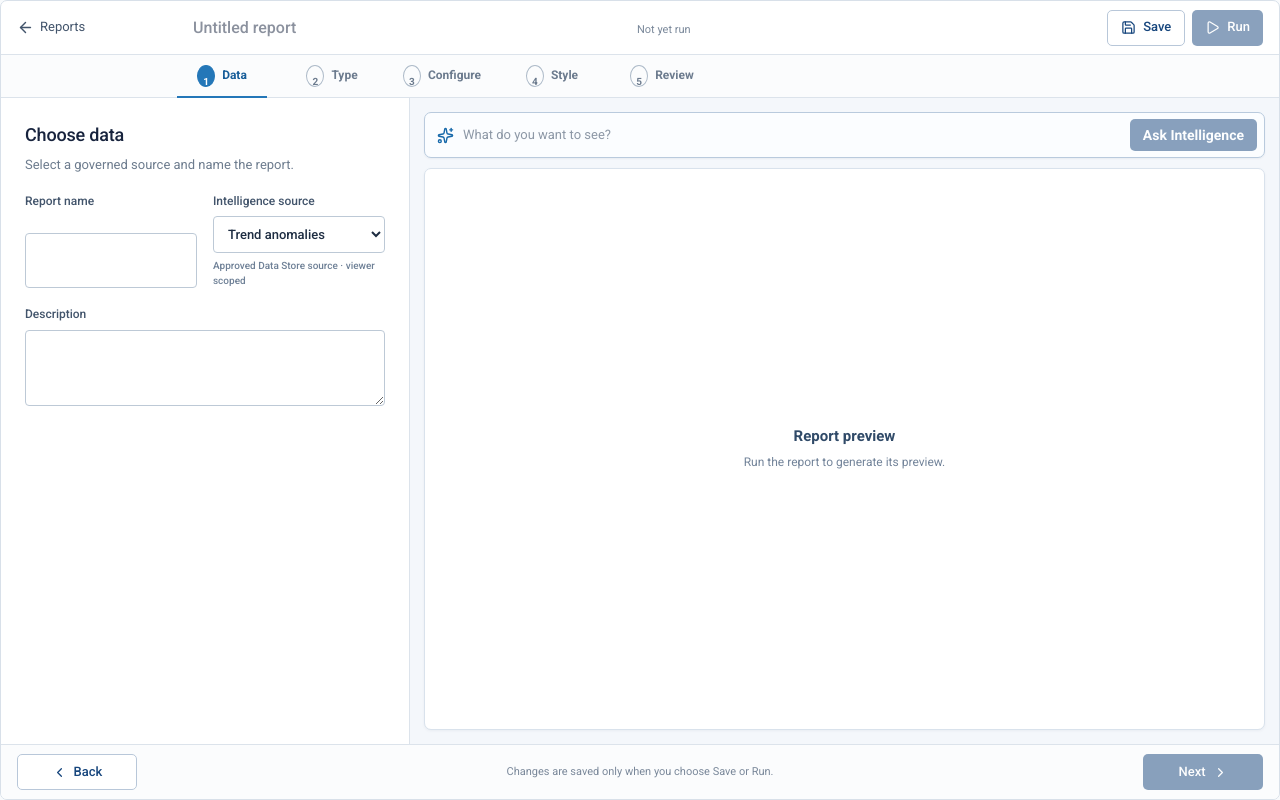
Test: shows governed Data Store sources and the complete chart catalogue
Expected: the text "Approved Data Store source · viewer scoped" is shown, [213,259,385,288]
Type "Chart discovery" into the field labelled "Report name" at point(111, 261), box [25,233,197,288]
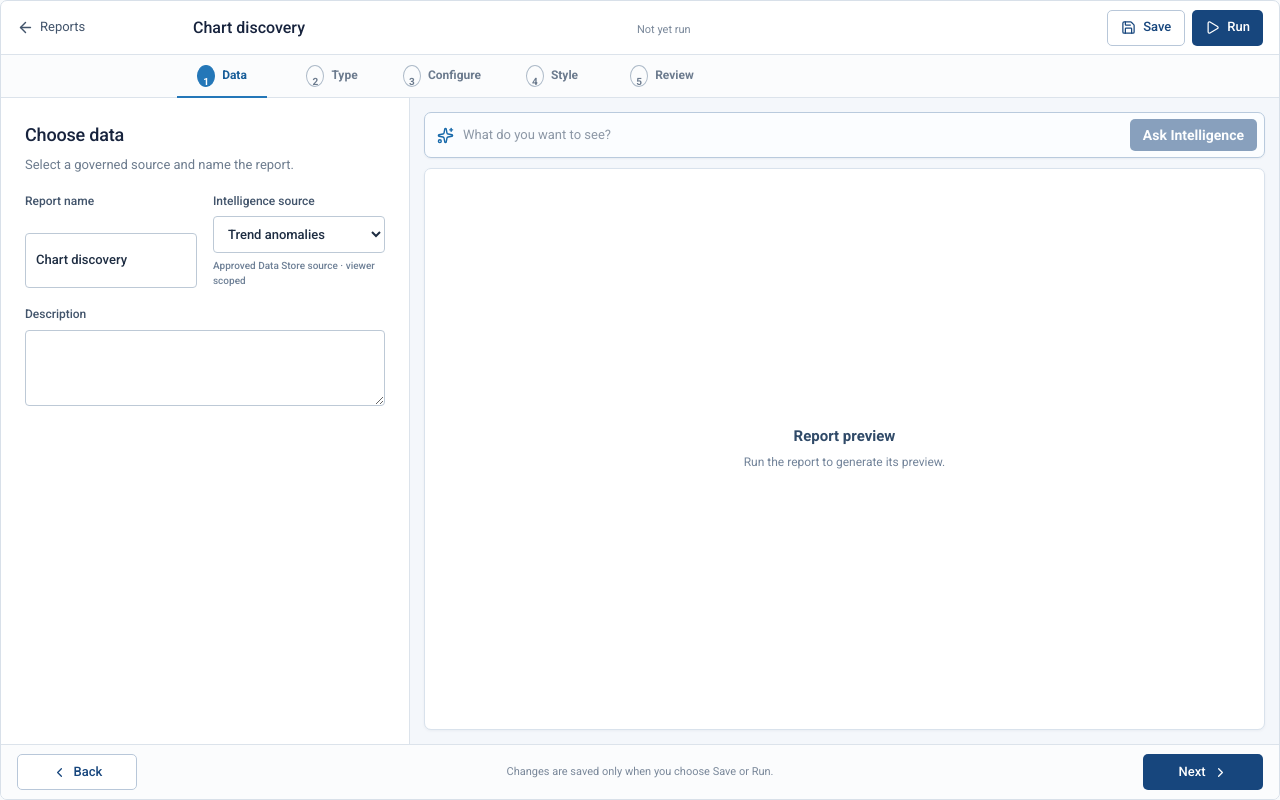
Click the button "Next" at point(1203, 772), box [1143,754,1263,790]
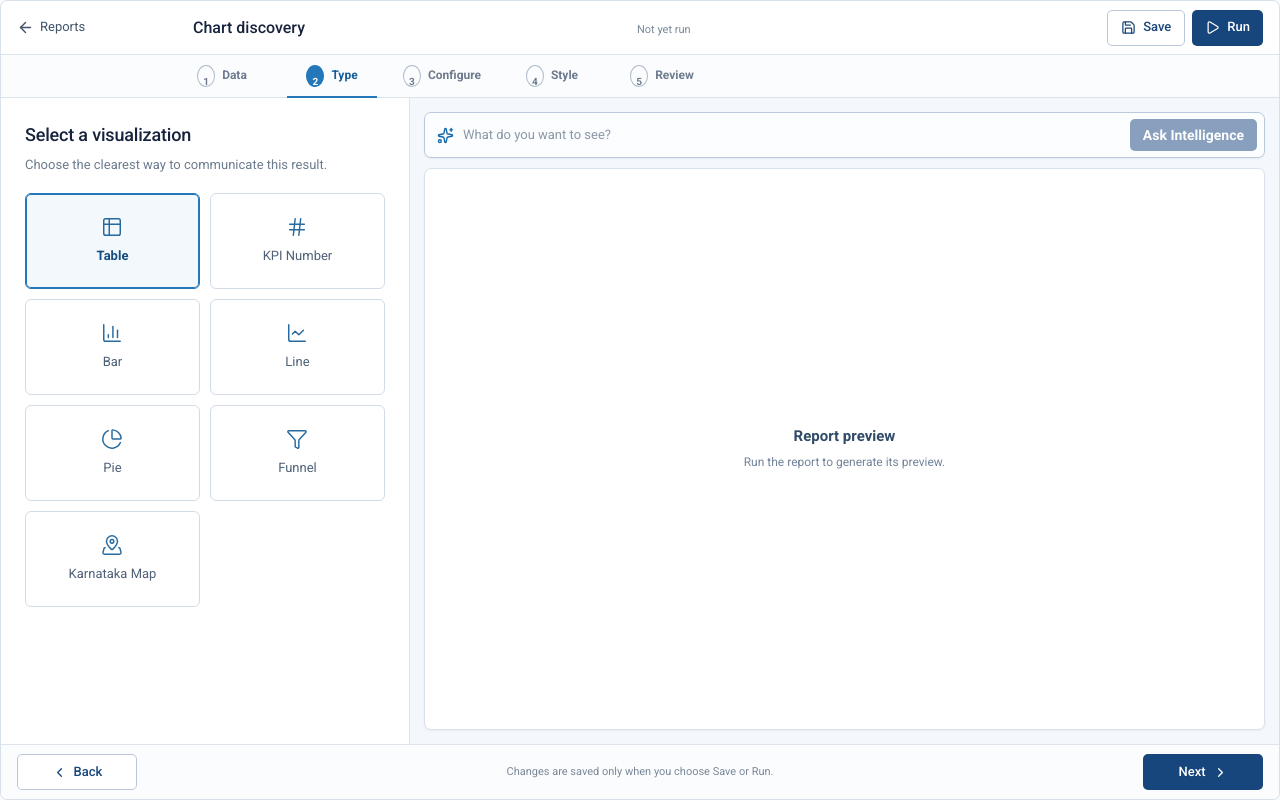
Now the radio button labelled "Table" is shown, box [25,193,200,289]
Now the radio button labelled "KPI Number" is shown, box [210,193,385,289]
Now the radio button labelled "Bar" is shown, box [25,299,200,395]
